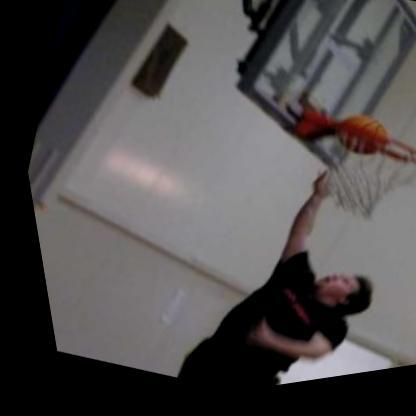basketball: (326, 116, 387, 173)
rim: (291, 103, 416, 247)
